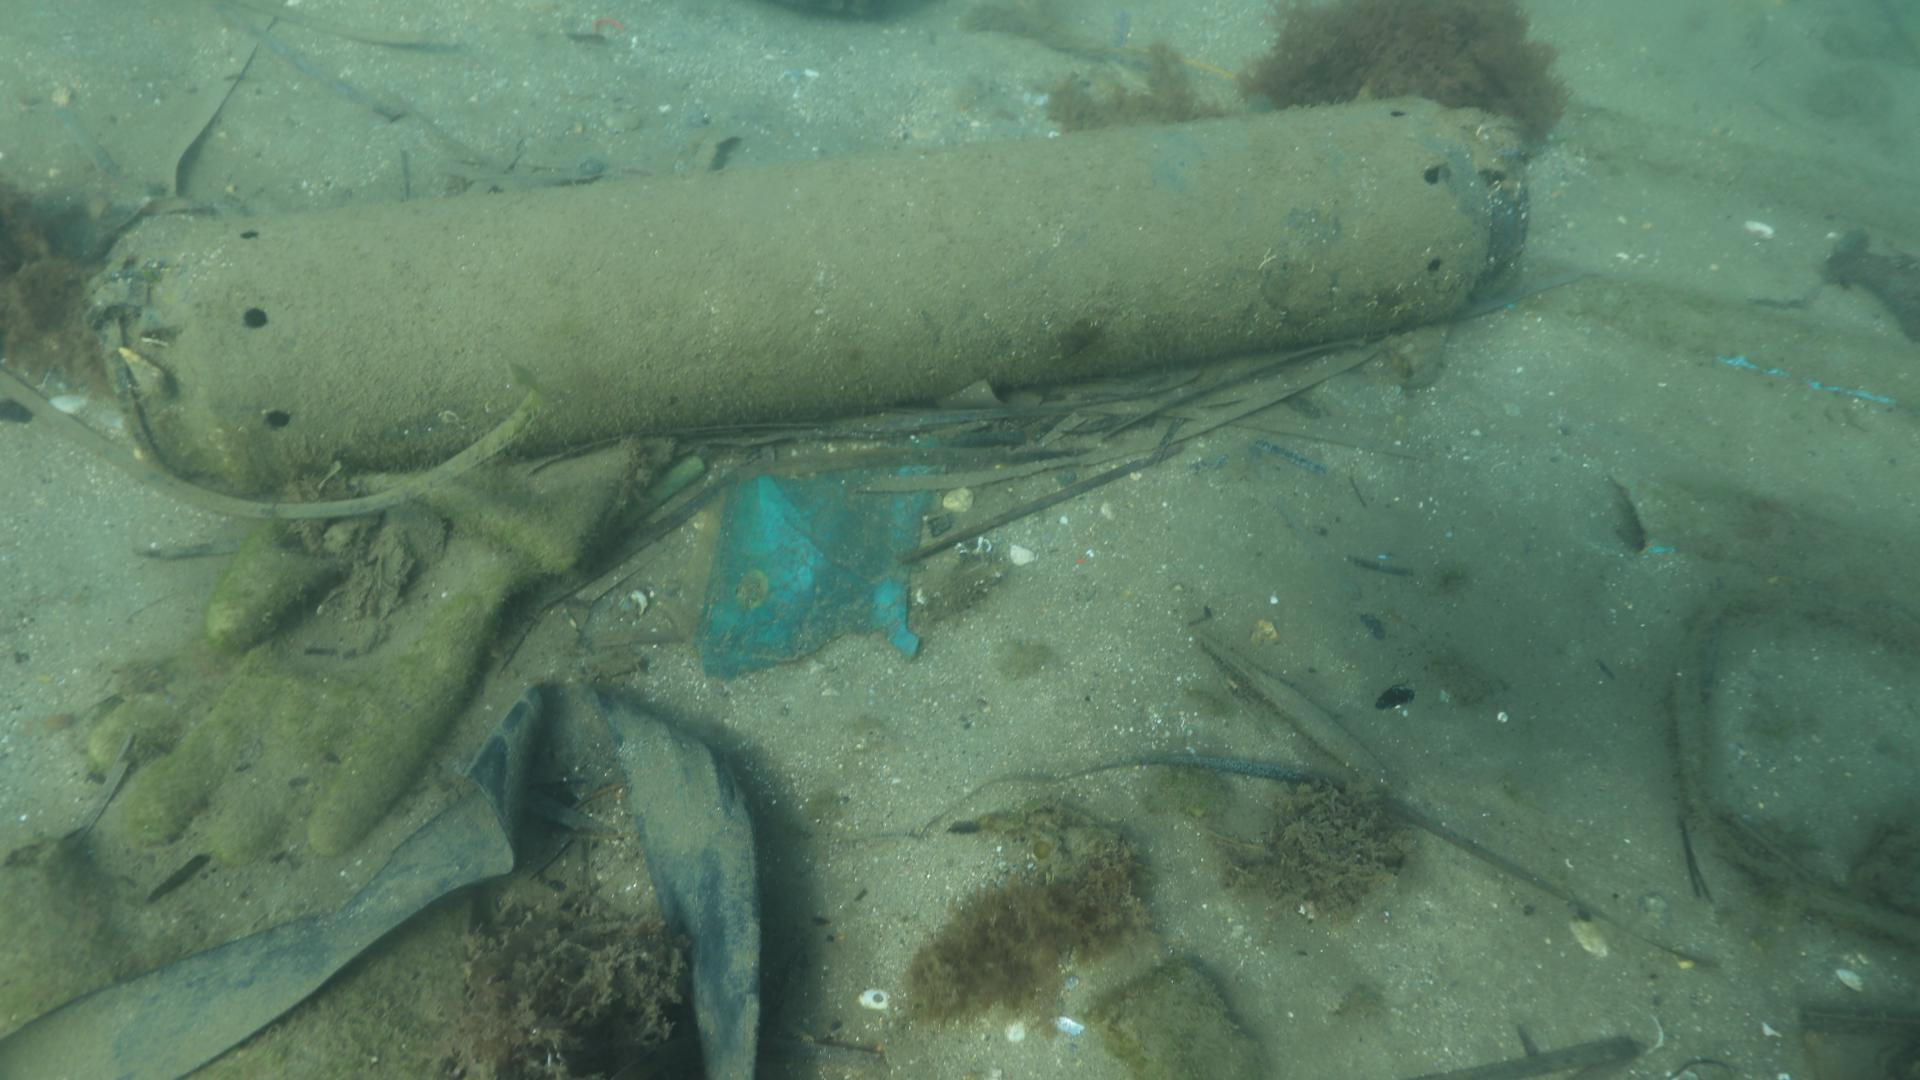eel fish trap: (104, 95, 1530, 500)
